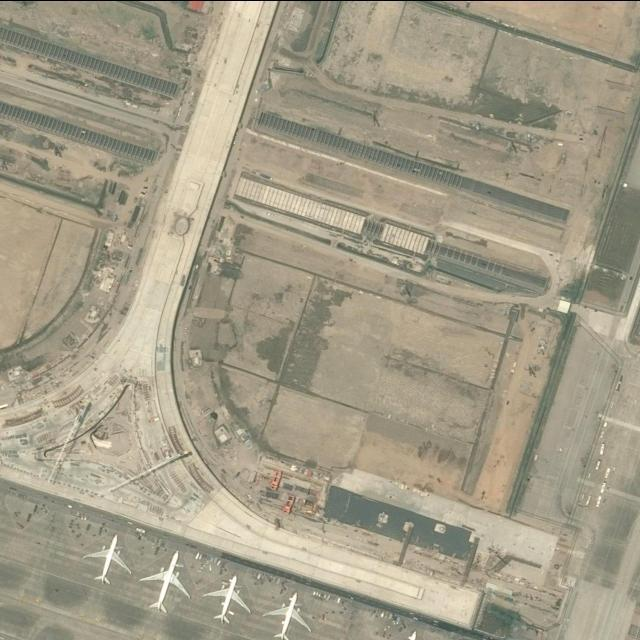Aircraft: (139, 550, 192, 614), (203, 574, 253, 628), (83, 535, 132, 588), (262, 592, 313, 640)
